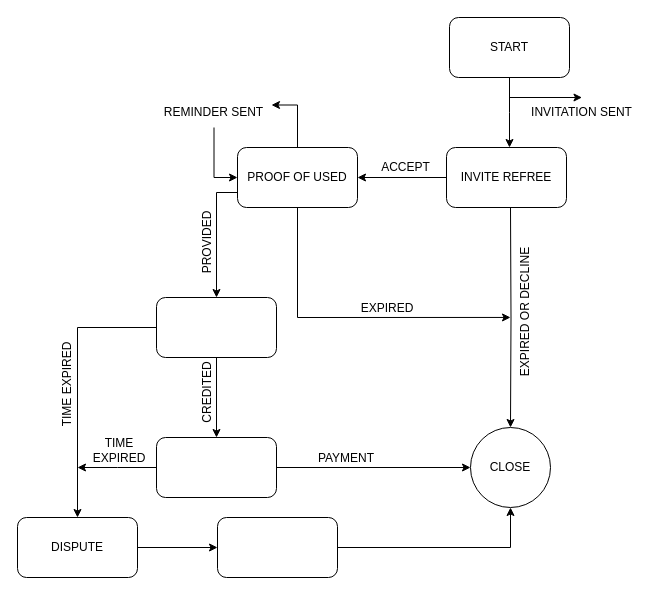
Image size: 657x595. Some labels were removed from this diagram. Each missing label, with the centre of its shape:
"CASE OPENED" belongs at (277,547).
"PAYMENT TO CUSTOMER" belongs at (216,467).
"REFREE CREDIT FROM ENTITY" belongs at (216,327).
